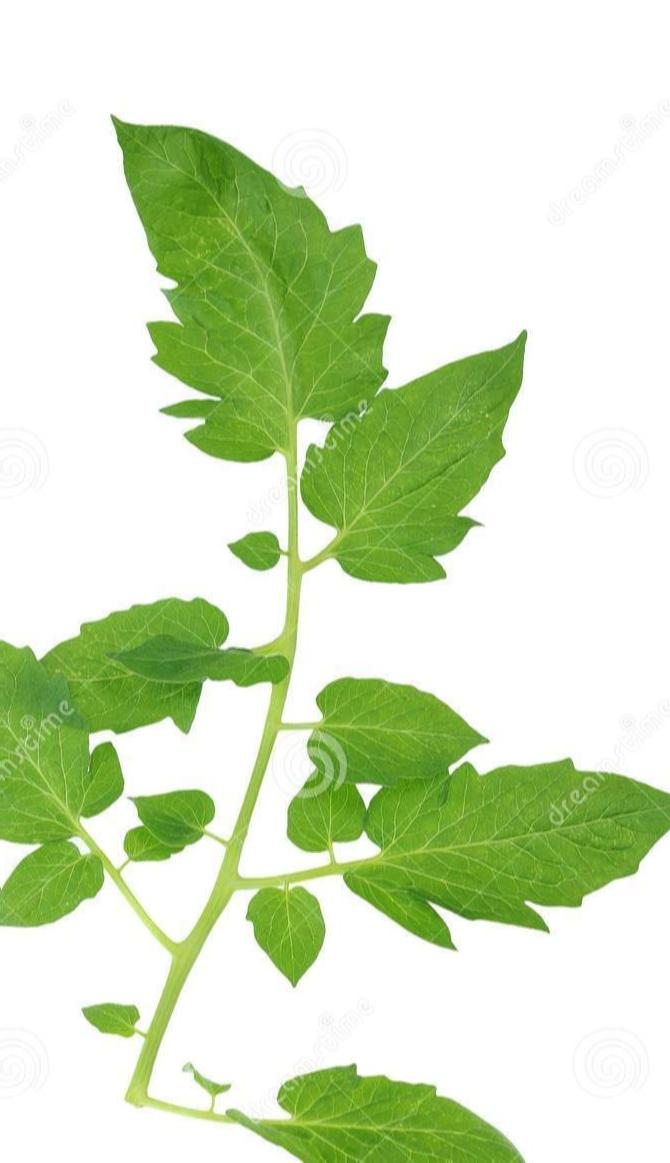Tomato leaf: (57, 90, 383, 475), (276, 318, 564, 633), (340, 763, 670, 954), (245, 1030, 555, 1163), (40, 556, 249, 750), (283, 663, 521, 814), (0, 579, 121, 863)
